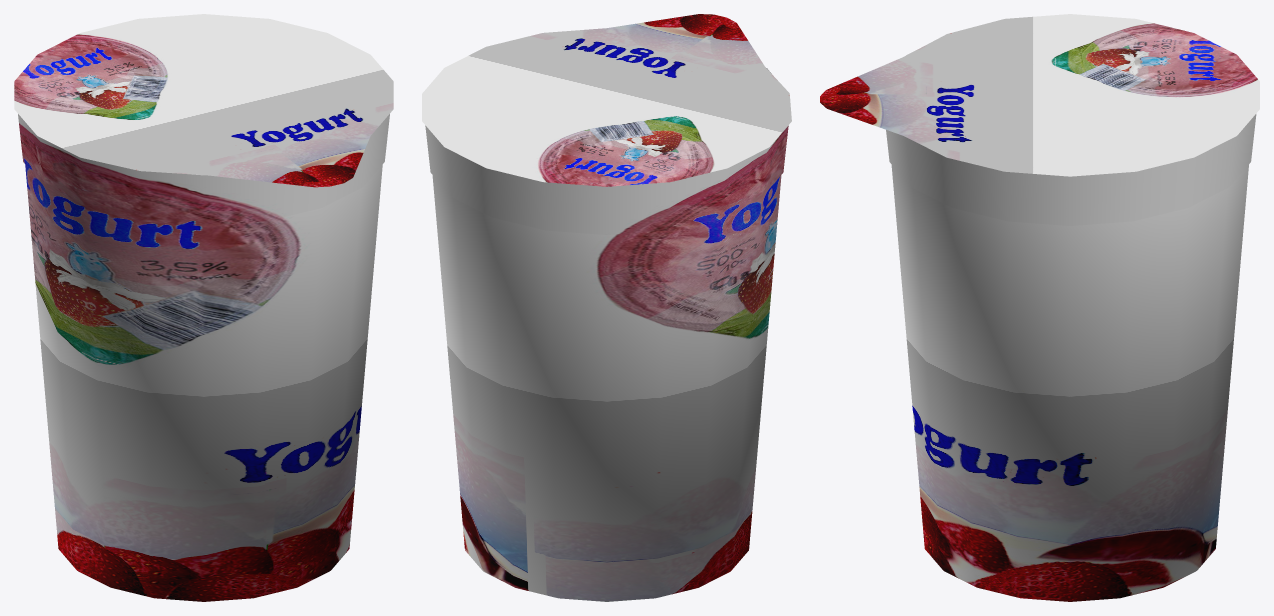
File: yougurt_pack_01-obj.obj
3 renders of one model, left to right at view 1: azimuth 30°, elevation 25°; view 2: azimuth 150°, elevation 25°; view 3: azimuth 270°, elevation 25°, orthographic. The views are drawn at different scales.
Parts seen in each view (by area): view 1: yougurt_pack_01; view 2: yougurt_pack_01; view 3: yougurt_pack_01.
Part boxes in pixels (x1,y1,x2,y2): yougurt_pack_01: (14, 14, 393, 601); yougurt_pack_01: (422, 14, 791, 601); yougurt_pack_01: (820, 14, 1259, 601).
Bounding box in the file's own units: 84.85 × 108 × 96.92.
Materials: 1 (1 with a texture image).
